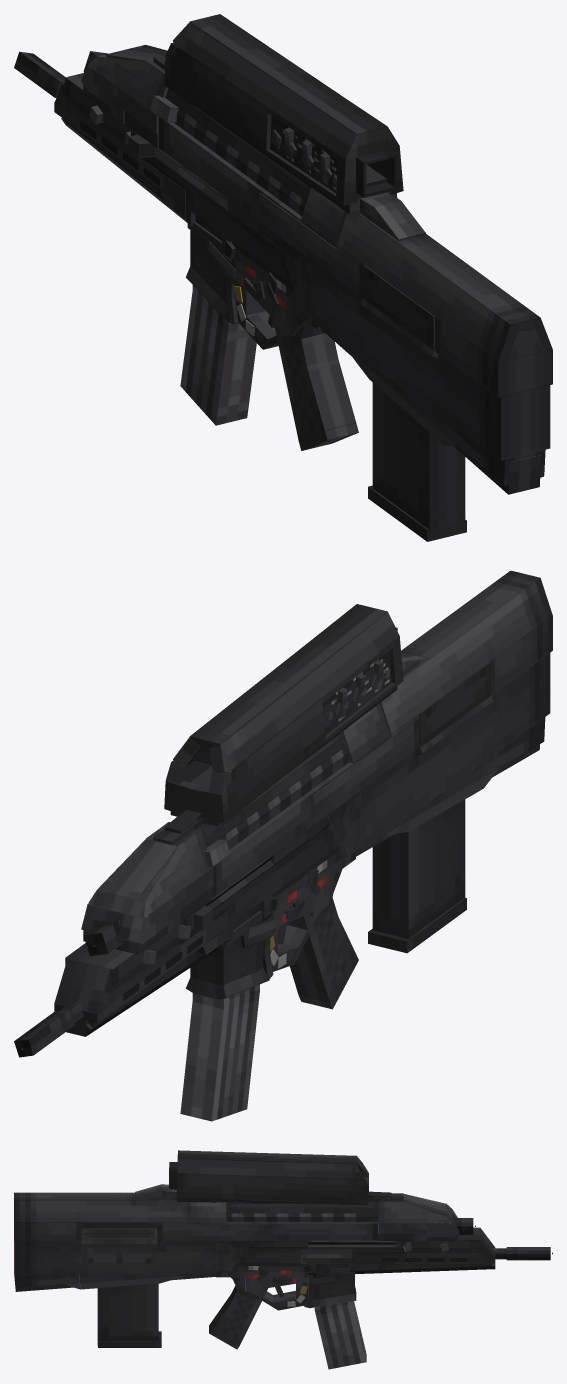
3 views of the same model, one above another, from view 1: azimuth 30°, elevation 25°; view 2: azimuth 150°, elevation 25°; view 3: azimuth 270°, elevation 25° (orthographic). The views are drawn at different scales.
Visible parts, largest first — view 1: gun_126, xm29scope_34, magazinegrenade_2, magazine_2, bolt_5; view 2: gun_126, xm29scope_34, magazinegrenade_2, magazine_2; view 3: gun_126, xm29scope_34, magazinegrenade_2, magazine_2, action_1, bolt_5.
Boxes of the visible parts, box(x1,y1,x2,y2) form: gun_126: box(14, 44, 552, 494); xm29scope_34: box(164, 14, 403, 213); magazinegrenade_2: box(368, 383, 466, 541); magazine_2: box(180, 285, 256, 425); bolt_5: box(128, 134, 227, 201); gun_126: box(14, 570, 552, 1057); xm29scope_34: box(164, 604, 403, 826); magazinegrenade_2: box(368, 799, 466, 953); magazine_2: box(180, 984, 259, 1121); gun_126: box(14, 1184, 550, 1349); xm29scope_34: box(169, 1150, 368, 1204); magazinegrenade_2: box(97, 1283, 161, 1347); magazine_2: box(314, 1301, 366, 1369); action_1: box(301, 1249, 352, 1257); bolt_5: box(308, 1240, 395, 1244).
Size of the model in its own units: 0.5284 by 2.63 by 6.09.
